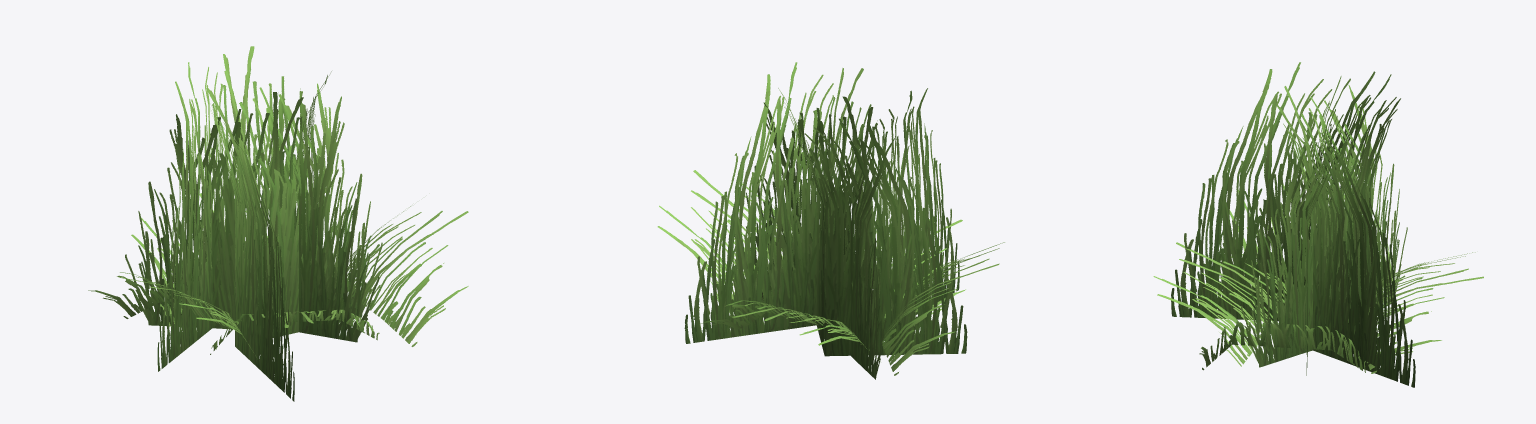
Rendered from Grass.fbx.
3 views of the same model, side by side, from view 1: azimuth 30°, elevation 25°; view 2: azimuth 150°, elevation 25°; view 3: azimuth 270°, elevation 25° (orthographic). The views are drawn at different scales.
Parts seen in each view (by area): view 1: pasted__pPlane3; view 2: pasted__pPlane3; view 3: pasted__pPlane3.
Part boxes in pixels (left/top/right/bottom): pasted__pPlane3: left=88, top=46, right=468, bottom=401; pasted__pPlane3: left=657, top=62, right=1004, bottom=379; pasted__pPlane3: left=1153, top=62, right=1483, bottom=387.
Bounding box in the file's own units: 154 × 101 × 135.
